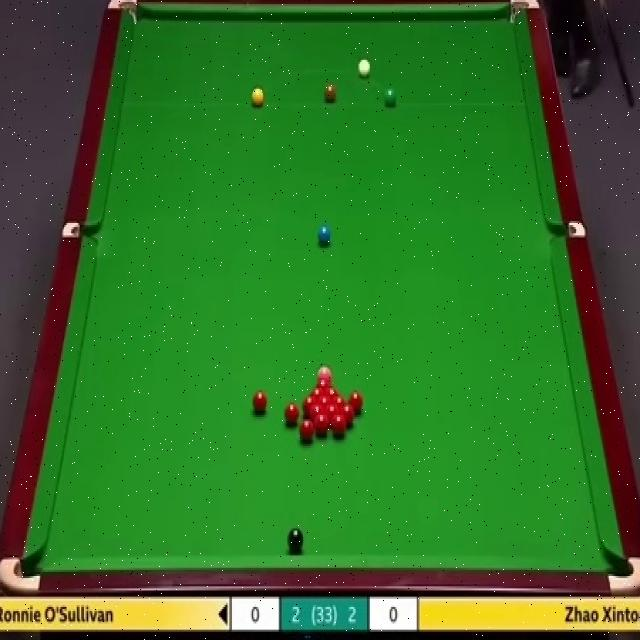black-ball: (286, 524, 304, 550)
blue-ball: (317, 226, 332, 243)
brown-ball: (325, 84, 336, 103)
green-ball: (382, 85, 398, 108)
pink-ball: (317, 368, 333, 384)
red-ball: (251, 390, 268, 413), (283, 401, 300, 424), (299, 418, 314, 444), (339, 404, 356, 426), (302, 396, 318, 418), (333, 413, 348, 436), (313, 414, 330, 434), (349, 392, 363, 413), (328, 386, 340, 406), (310, 388, 326, 400)
white-ball: (358, 57, 371, 79)
yellow-ball: (251, 86, 264, 108)
